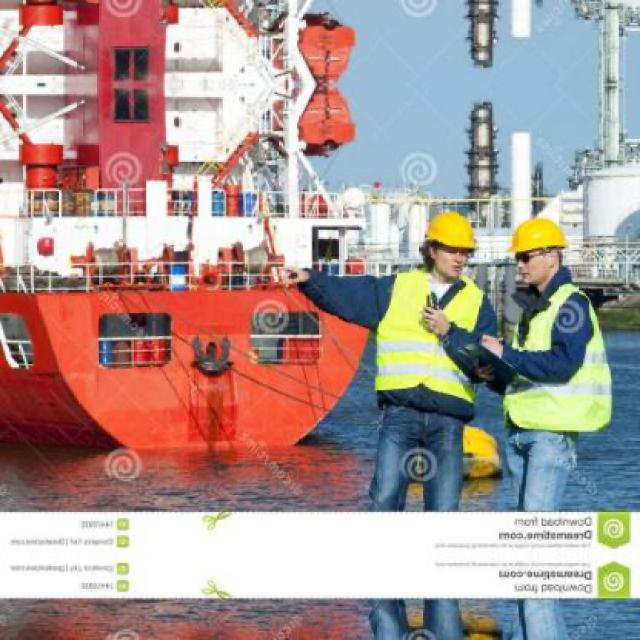con casco: (358, 195, 491, 355), (502, 192, 590, 312)
